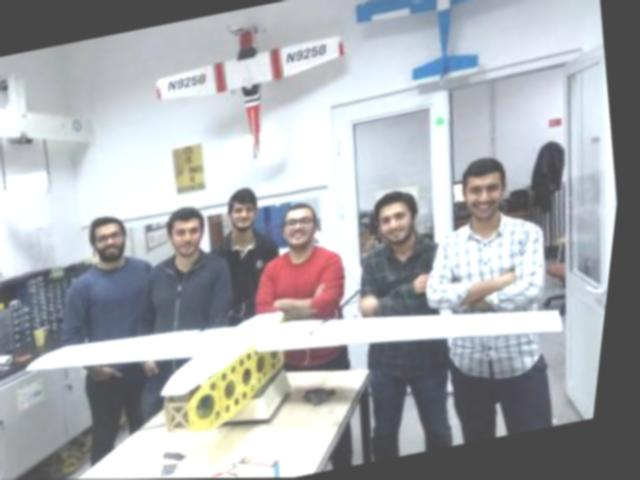uav: (20, 239, 582, 464), (141, 3, 370, 178), (339, 0, 559, 101), (0, 53, 114, 205)
